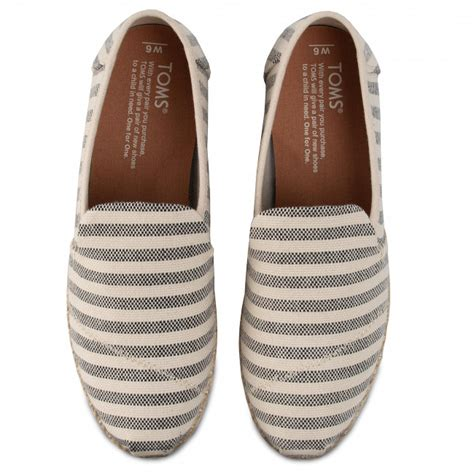nylon: (66, 202, 388, 460)
